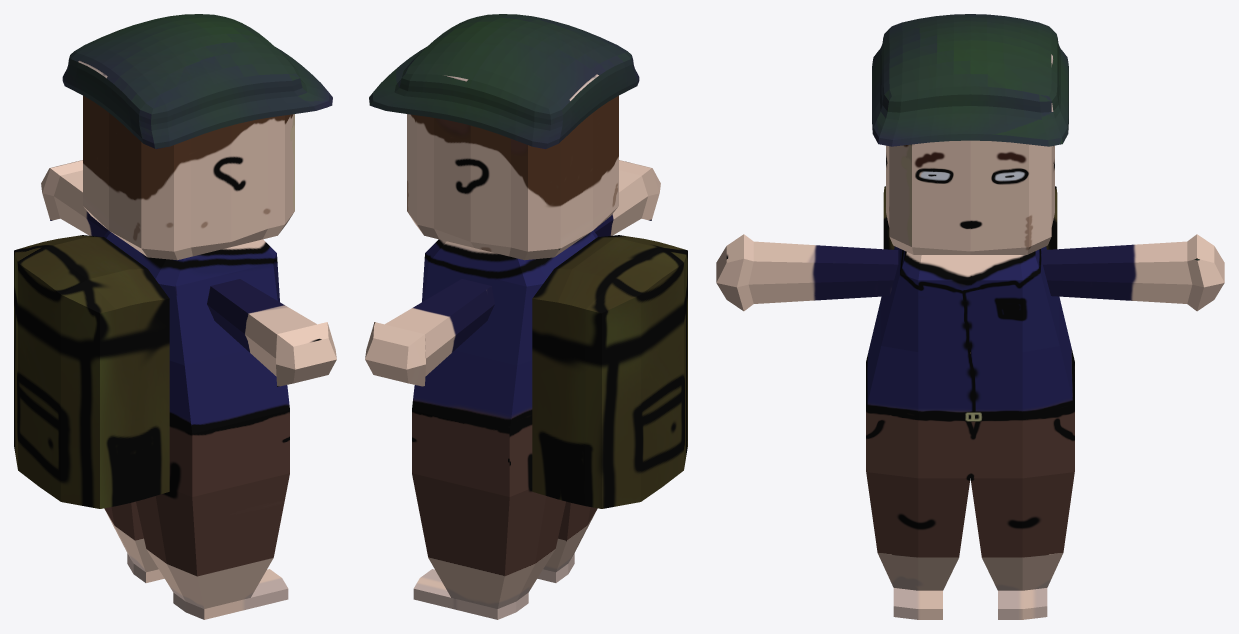
Rendered from player.fbx.
3 renders of one model, left to right at view 1: azimuth 30°, elevation 25°; view 2: azimuth 150°, elevation 25°; view 3: azimuth 270°, elevation 25°, orthographic.
Parts seen in each view (by area): view 1: playerBody, backpack; view 2: playerBody, backpack; view 3: playerBody.
Boxes of the visible parts, bbox=[...] form: playerBody: bbox=[41, 14, 336, 619]; backpack: bbox=[14, 235, 169, 508]; playerBody: bbox=[365, 14, 660, 619]; backpack: bbox=[532, 235, 687, 508]; playerBody: bbox=[716, 14, 1224, 619].
Bounding box in the file's own units: 282 × 587 × 487.
Materials: 2 (2 with a texture image).
